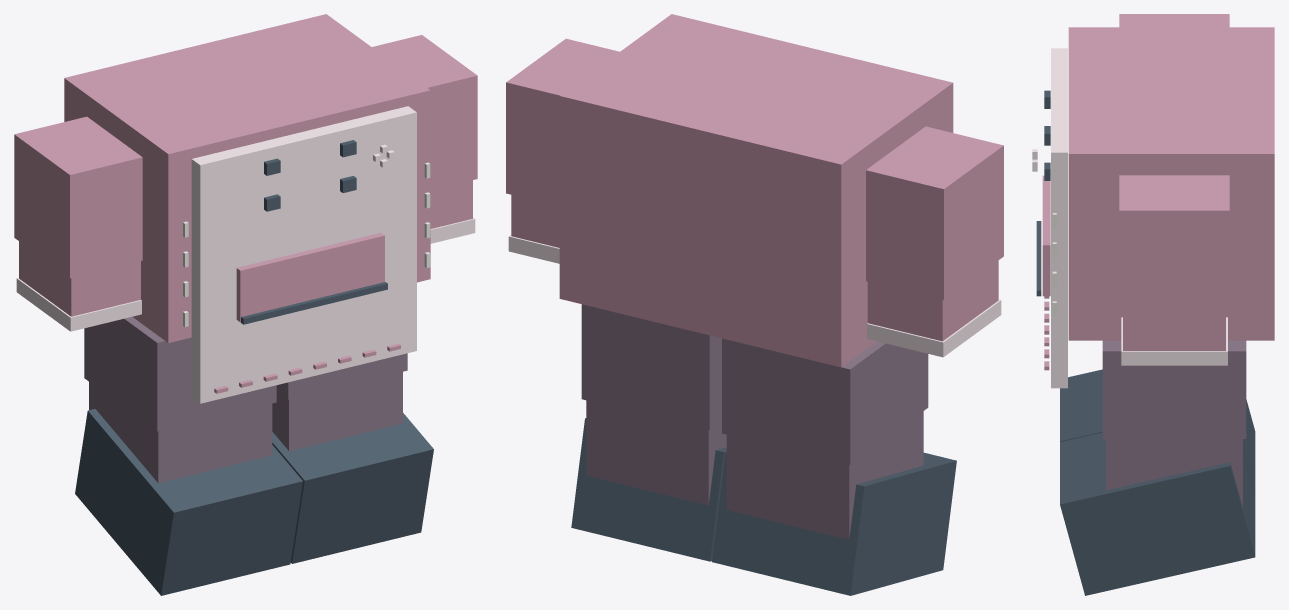
Rendered from chef-rose.glb.
3 renders of one model, left to right at view 1: azimuth 30°, elevation 25°; view 2: azimuth 150°, elevation 25°; view 3: azimuth 270°, elevation 25°, orthographic. The views are drawn at different scales.
Visible parts, largest first — view 1: apron, jacket, shoe-Right, upper-sleeve-Right, shoe-Left, trouser-Right, lower-trouser-Right, upper-sleeve-Left, apron-pocket, lower-trouser-Left, lower-sleeve-Right, trouser-Left (+4 smaller); view 2: jacket, upper-sleeve-Right, trouser-Right, shoe-Right, trouser-Left, lower-trouser-Right, lower-trouser-Left, upper-sleeve-Left, shoe-Left, lower-sleeve-Right, cuff-Right, lower-sleeve-Left (+1 smaller); view 3: jacket, shoe-Left, upper-sleeve-Left, trouser-Left, apron, lower-trouser-Left, lower-sleeve-Left, shoe-Right, cuff-Left, upper-sleeve-Right, apron-pocket, design-chef-apron-pocket-binding.
Boxes of the visible parts, x1,y1,x2,y2 form: apron: [191, 106, 416, 403]; jacket: [64, 14, 430, 342]; shoe-Right: [75, 409, 302, 595]; upper-sleeve-Right: [14, 116, 142, 278]; shoe-Left: [272, 413, 433, 563]; trouser-Right: [84, 317, 276, 431]; lower-trouser-Right: [89, 382, 272, 482]; upper-sleeve-Left: [372, 35, 477, 190]; apron-pocket: [236, 233, 384, 322]; lower-trouser-Left: [272, 372, 402, 451]; lower-sleeve-Right: [19, 241, 140, 316]; trouser-Left: [276, 353, 407, 399]; jacket: [559, 14, 953, 367]; upper-sleeve-Right: [866, 126, 1003, 300]; trouser-Right: [722, 338, 928, 464]; shoe-Right: [712, 452, 956, 595]; trouser-Left: [581, 304, 721, 430]; lower-trouser-Right: [726, 411, 923, 539]; lower-trouser-Left: [586, 400, 726, 505]; upper-sleeve-Left: [506, 38, 619, 206]; shoe-Left: [571, 418, 726, 561]; lower-sleeve-Right: [867, 260, 998, 341]; cuff-Right: [867, 299, 1001, 357]; lower-sleeve-Left: [511, 195, 559, 247]; jacket: [1068, 27, 1274, 340]; shoe-Left: [1060, 432, 1255, 595]; upper-sleeve-Left: [1119, 175, 1229, 312]; trouser-Left: [1102, 340, 1246, 438]; apron: [1051, 48, 1067, 388]; lower-trouser-Left: [1106, 439, 1242, 507]; lower-sleeve-Left: [1123, 312, 1225, 350]; shoe-Right: [1060, 369, 1255, 493]; cuff-Left: [1121, 317, 1227, 365]; upper-sleeve-Right: [1119, 14, 1229, 27]; apron-pocket: [1042, 175, 1050, 296]; design-chef-apron-pocket-binding: [1036, 221, 1041, 296].
Bounding box in the file's own units: 1.07 × 1.13 × 0.559.
